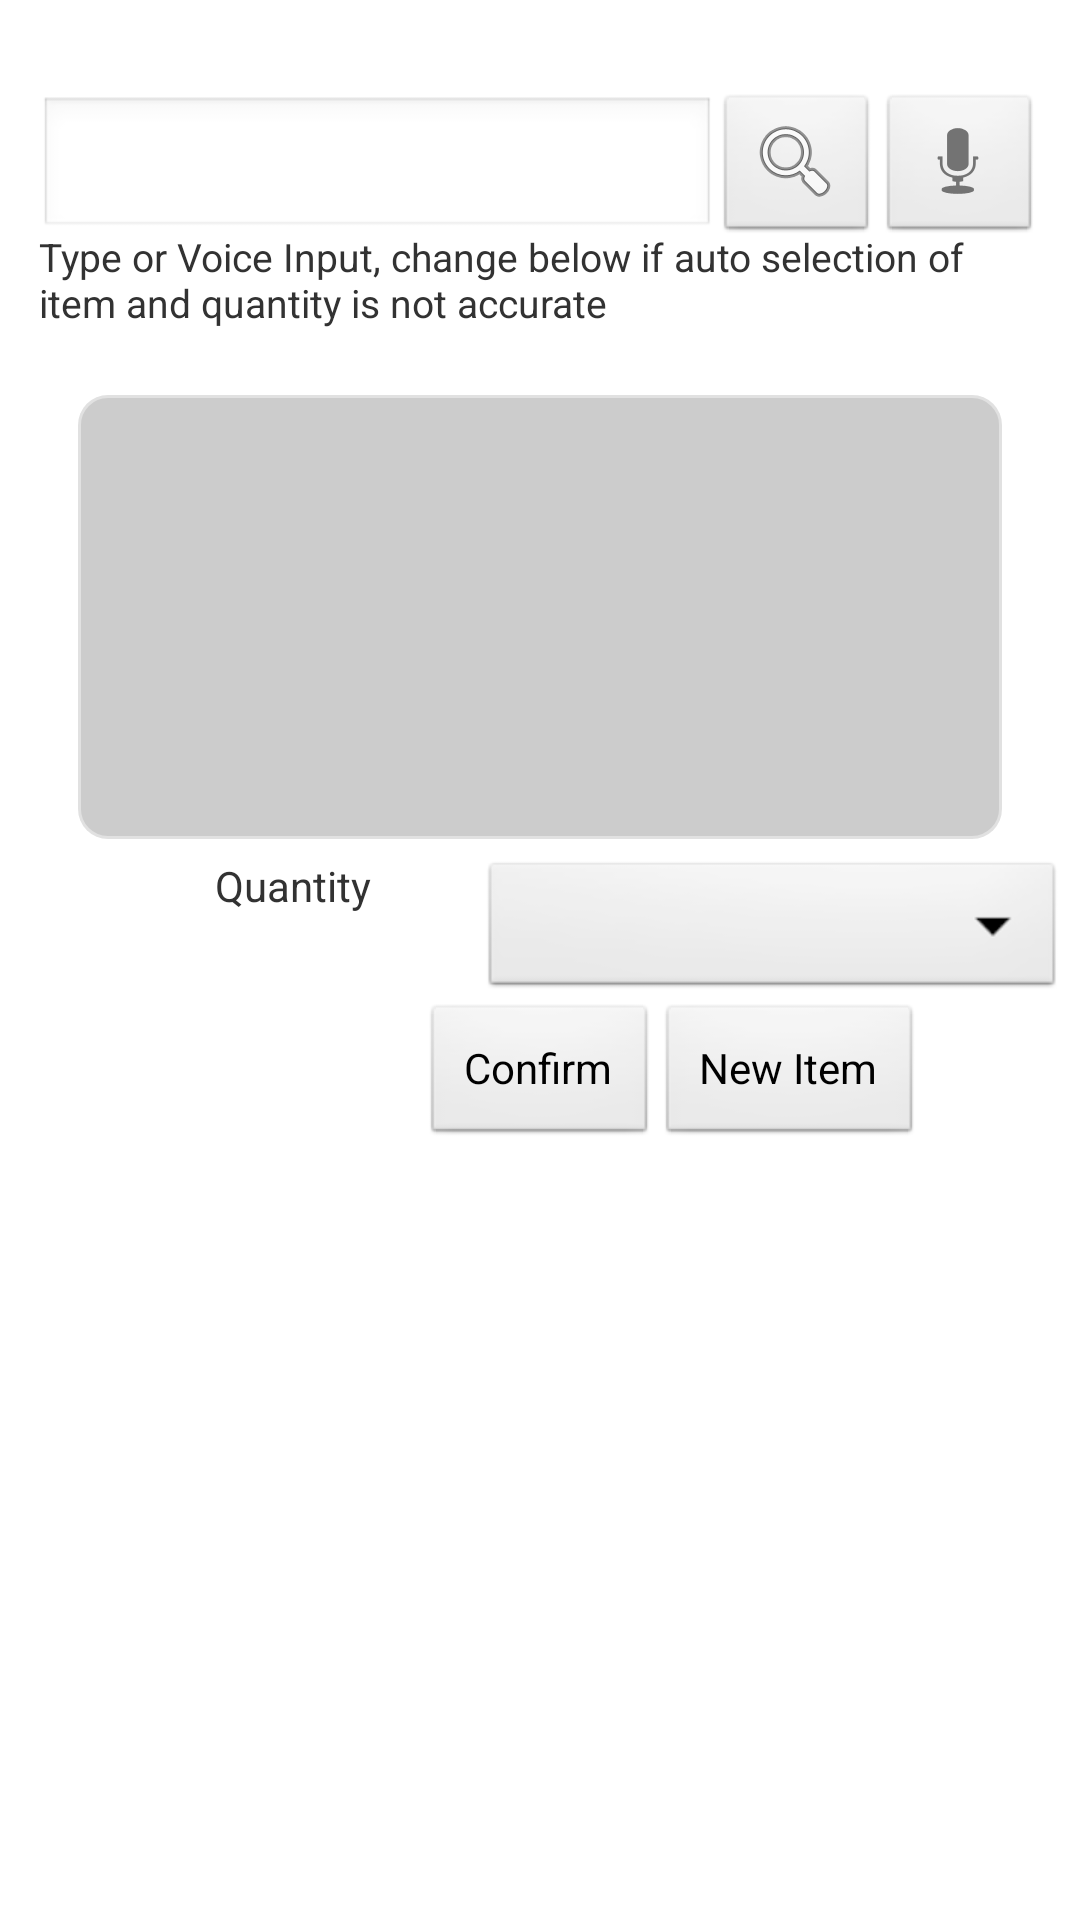

Icon bounding boxes for this 1080w x 1920h phone screenshot, format (x1, y1, x2, y2):
search: (723, 95, 870, 244)
speak now: (886, 95, 1033, 244)
